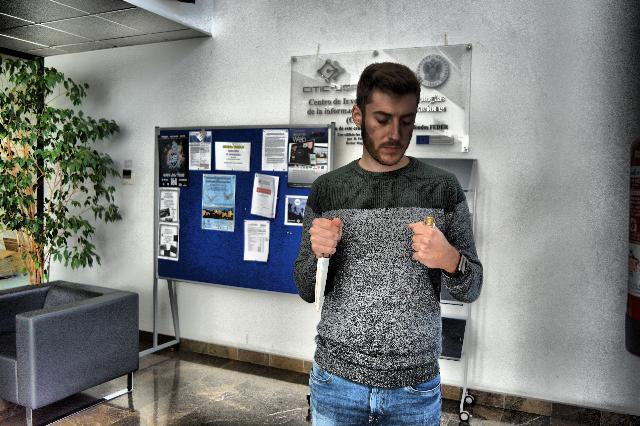knife: (310, 214, 336, 314)
